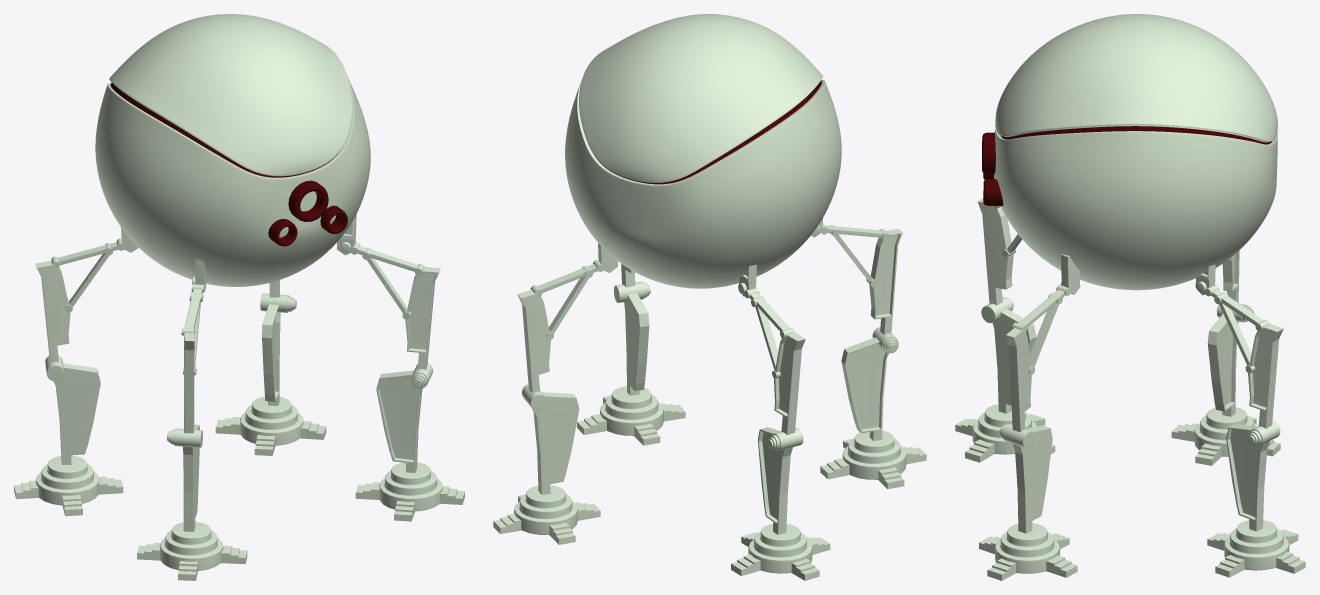
Rendered from SphereBot_pSphere3.FBX.
3 renders of one model, left to right at view 1: azimuth 30°, elevation 25°; view 2: azimuth 150°, elevation 25°; view 3: azimuth 270°, elevation 25°, orthographic. The views are drawn at different scales.
Visible parts, largest first — view 1: SphereBot_pSphere3; view 2: SphereBot_pSphere3; view 3: SphereBot_pSphere3.
Boxes of the visible parts, left/top/right/bottom form: SphereBot_pSphere3: left=14, top=14, right=464, bottom=580; SphereBot_pSphere3: left=493, top=14, right=926, bottom=580; SphereBot_pSphere3: left=955, top=14, right=1305, bottom=580.
Size of the model in its own units: 21.38 by 19.12 by 29.04.
